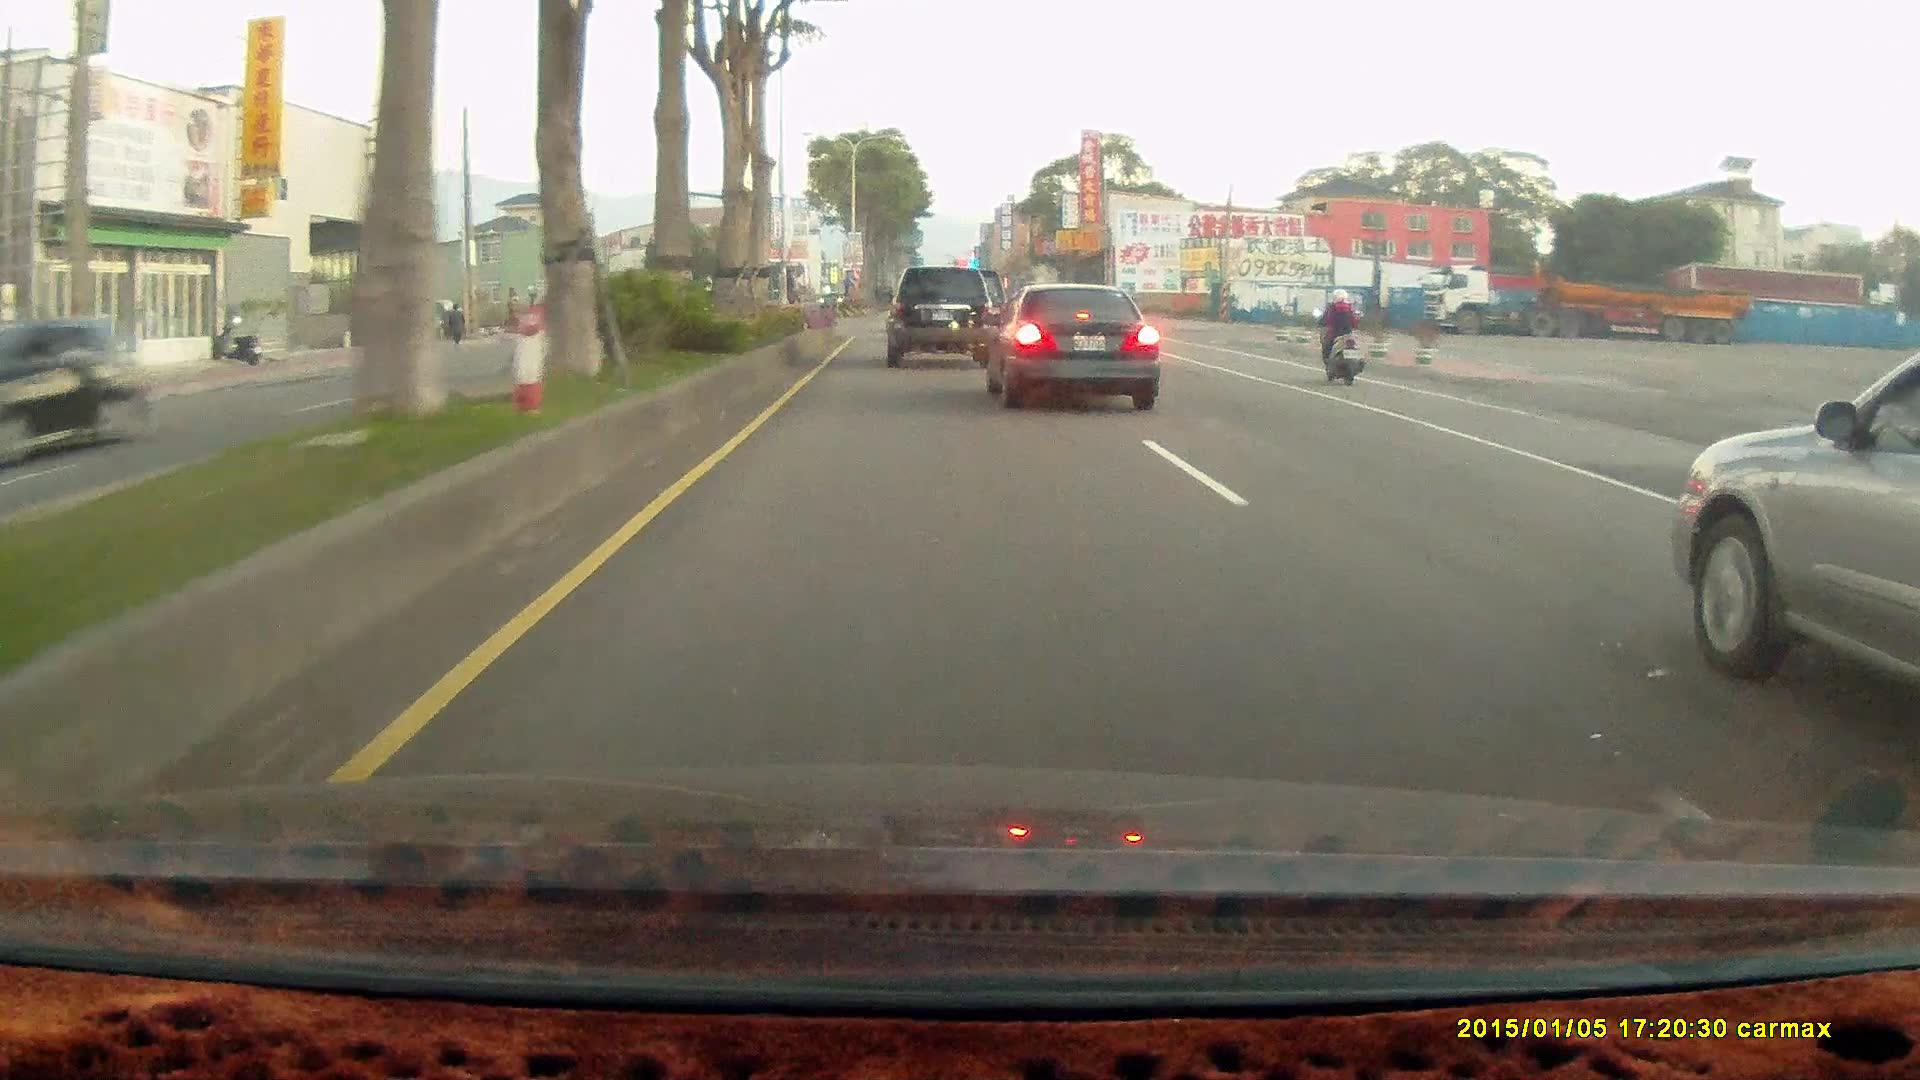pedestrian: (444, 300, 466, 346)
rider: (1307, 281, 1372, 389), (1310, 284, 1364, 383)
vehicle: (1669, 345, 1920, 727), (1417, 266, 1747, 344), (982, 282, 1161, 413), (0, 318, 154, 464), (985, 283, 1159, 407), (7, 317, 148, 462), (880, 262, 1000, 366), (880, 264, 994, 365)
